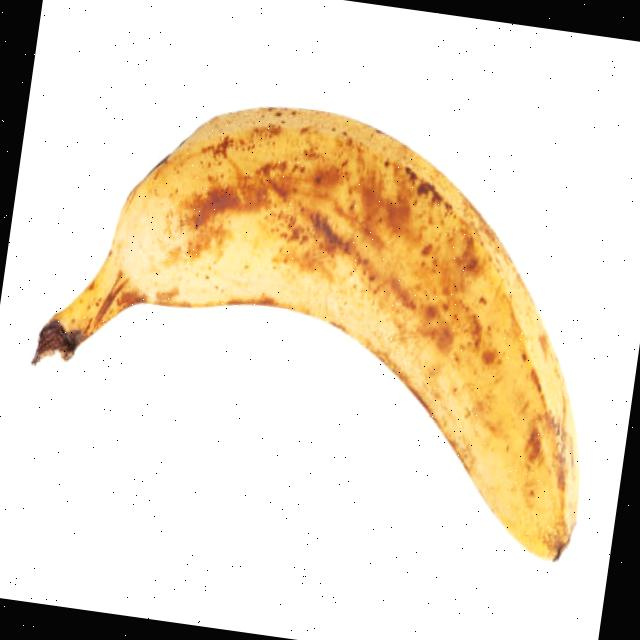overripe: (4, 59, 635, 574)
